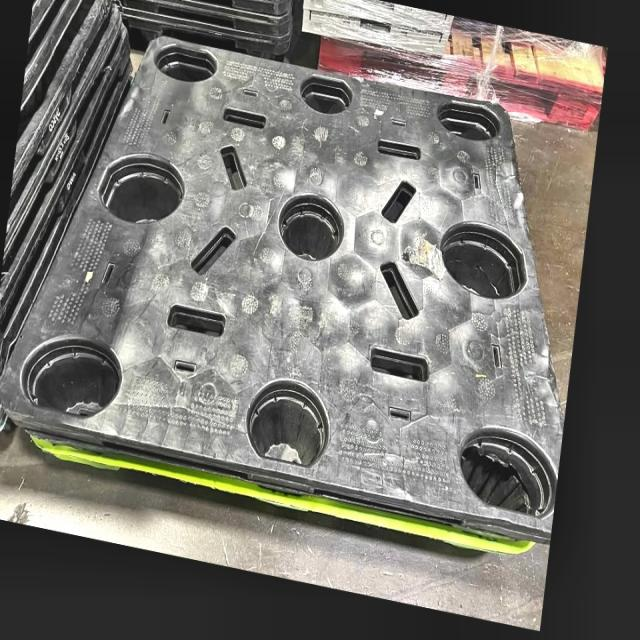non-igps: (0, 28, 569, 564), (0, 51, 138, 385), (0, 17, 136, 336), (309, 25, 612, 143), (0, 0, 126, 273), (7, 0, 116, 207), (115, 8, 297, 70), (16, 0, 98, 134), (113, 0, 296, 44), (157, 0, 299, 22)
